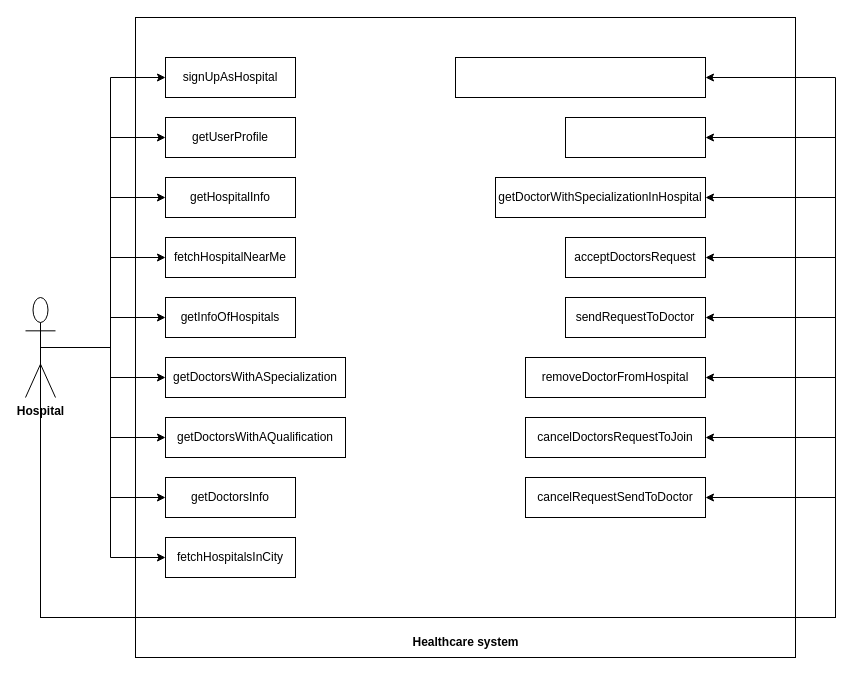
The diagram is 861 pixels wide and 675 high, and some of its shapes have lost their labels. Each missing label, with the centre of its shape:
getDetailsOfDoctorsCurrentWorkingHospitals: (580,77)
getInfoOfDoctors: (635,137)
